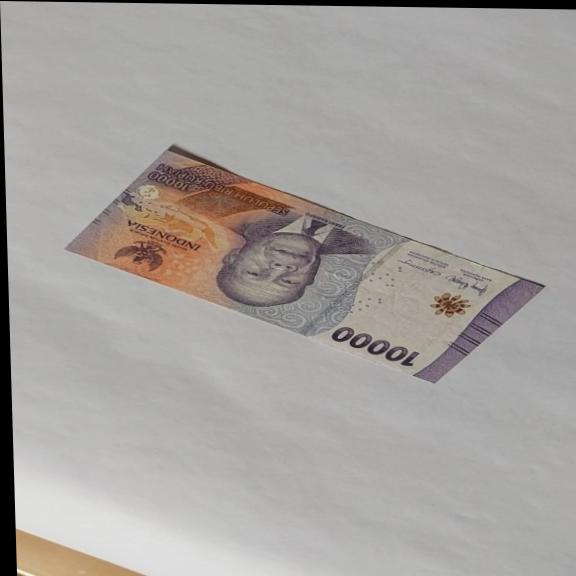Kertas: (59, 143, 548, 386), (329, 326, 421, 367)
